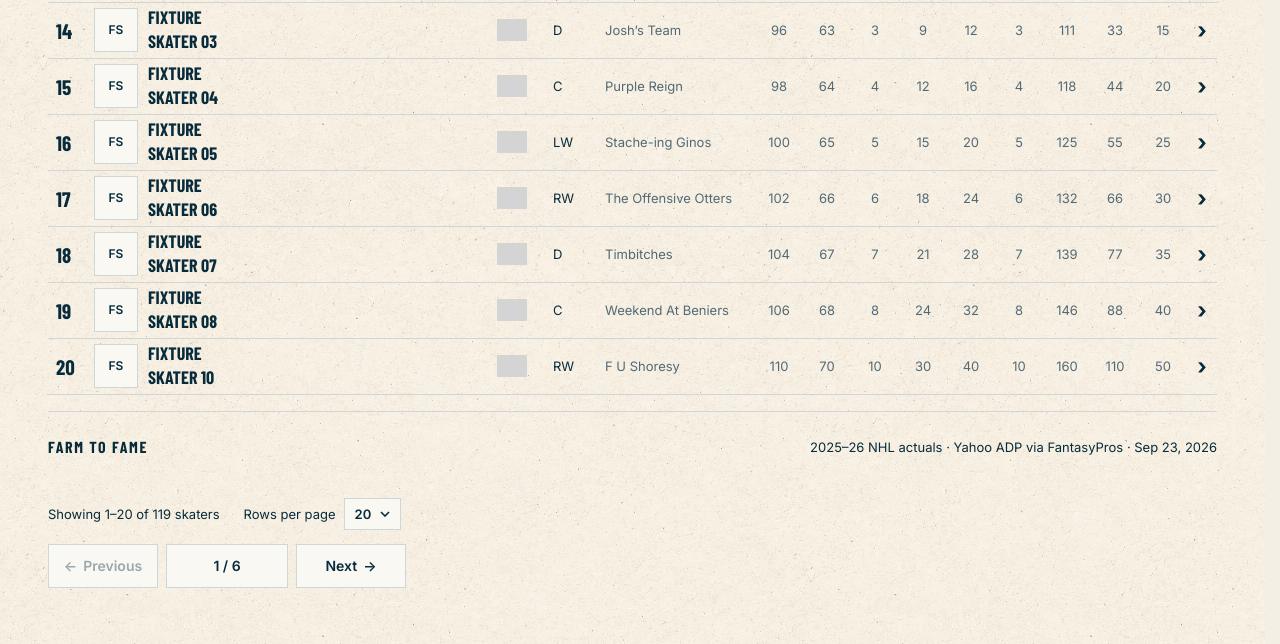
Test case: Available Players page › returns to page 1 when the query changes
This screenshot has width=1280, height=644.
(page scrolled)
Click the button "Next →".
click(351, 566)  # box top-left (296, 544), bottom-right (406, 588)
(page scrolled)
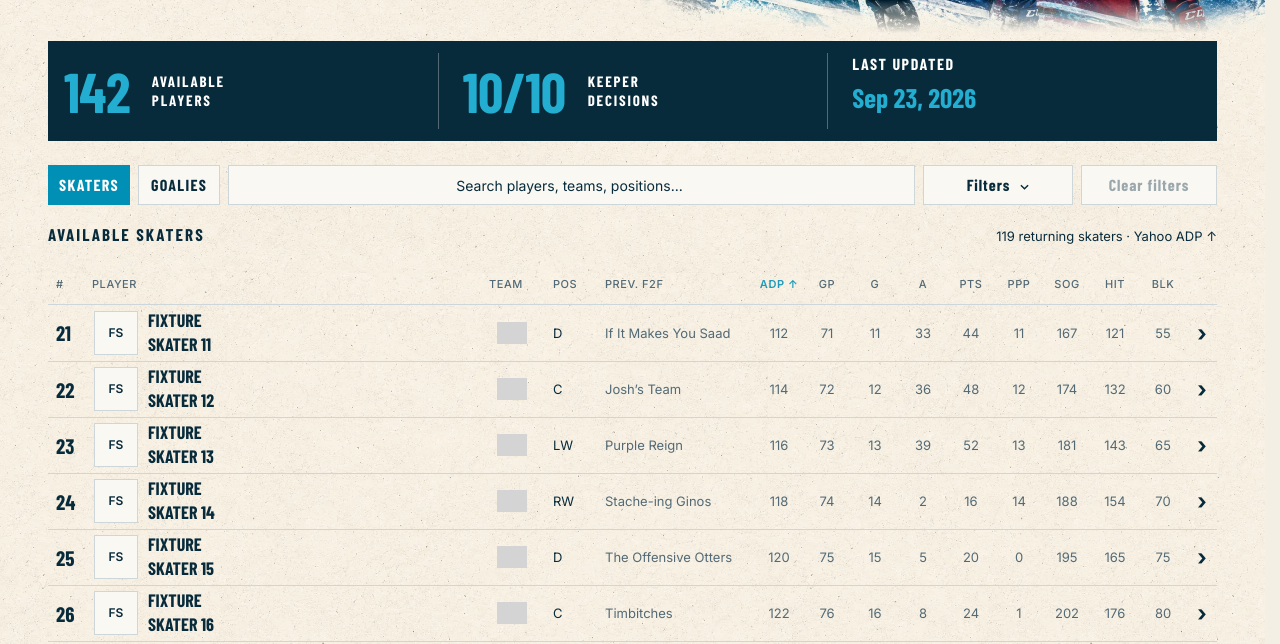
Click the button with aria-label "Sort by Points".
click(971, 284)  # box top-left (960, 273), bottom-right (982, 296)
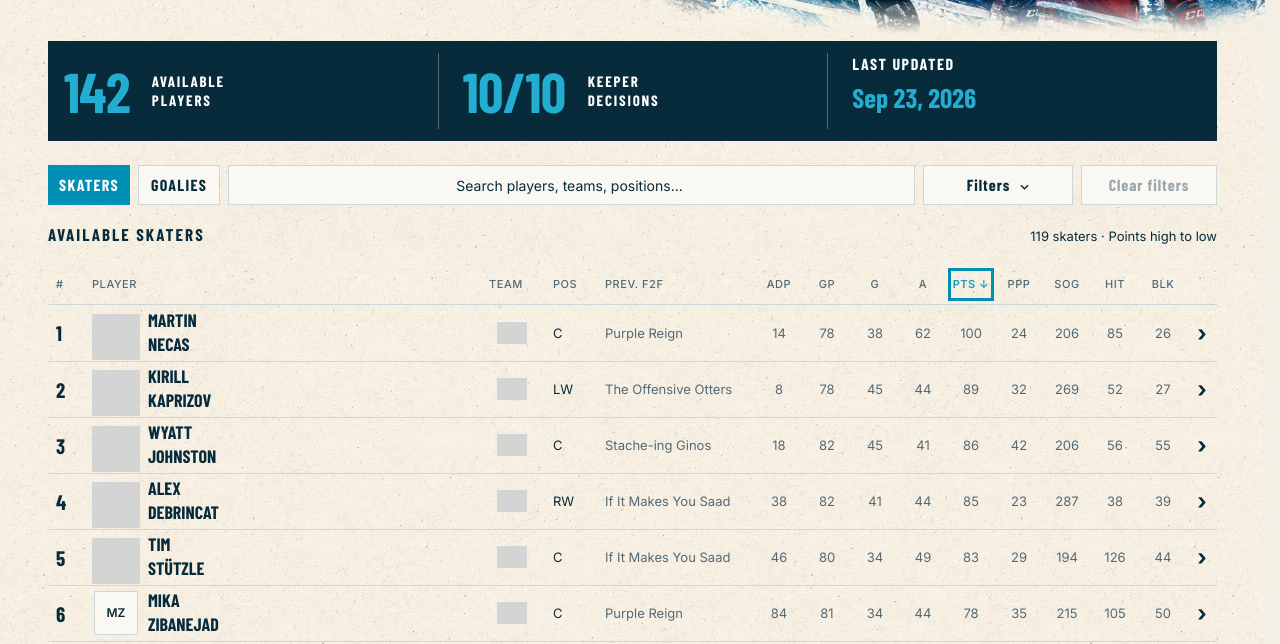
Check: the text "119 skaters · Points high to low" is shown, box top-left (1030, 227), bottom-right (1217, 245)
